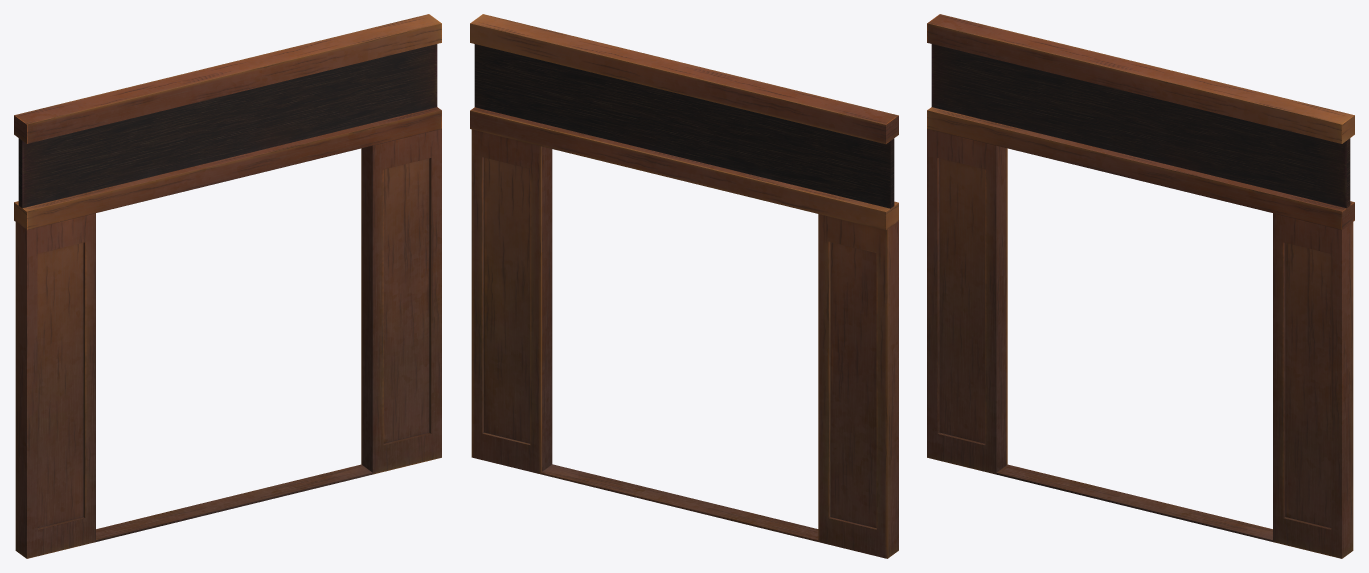
File: Door_C_wall.fbx
3 renders of one model, left to right at view 1: azimuth 30°, elevation 25°; view 2: azimuth 150°, elevation 25°; view 3: azimuth 330°, elevation 25°, orthographic.
Parts seen in each view (by area): view 1: Door_C_wall; view 2: Door_C_wall; view 3: Door_C_wall.
Boxes of the visible parts, x1,y1,x2,y2 form: Door_C_wall: [14, 14, 441, 558]; Door_C_wall: [470, 14, 898, 558]; Door_C_wall: [927, 14, 1354, 558].
Size of the model in its own units: 400 by 400 by 21.46.
